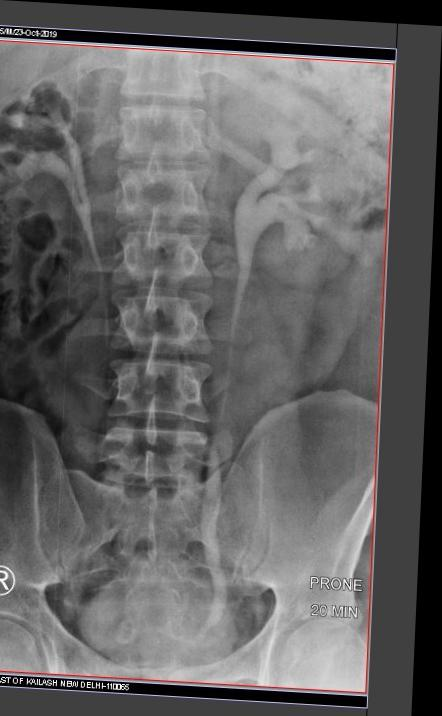left kidney: (260, 44, 414, 271)
vertebrae: (129, 135, 242, 220)
